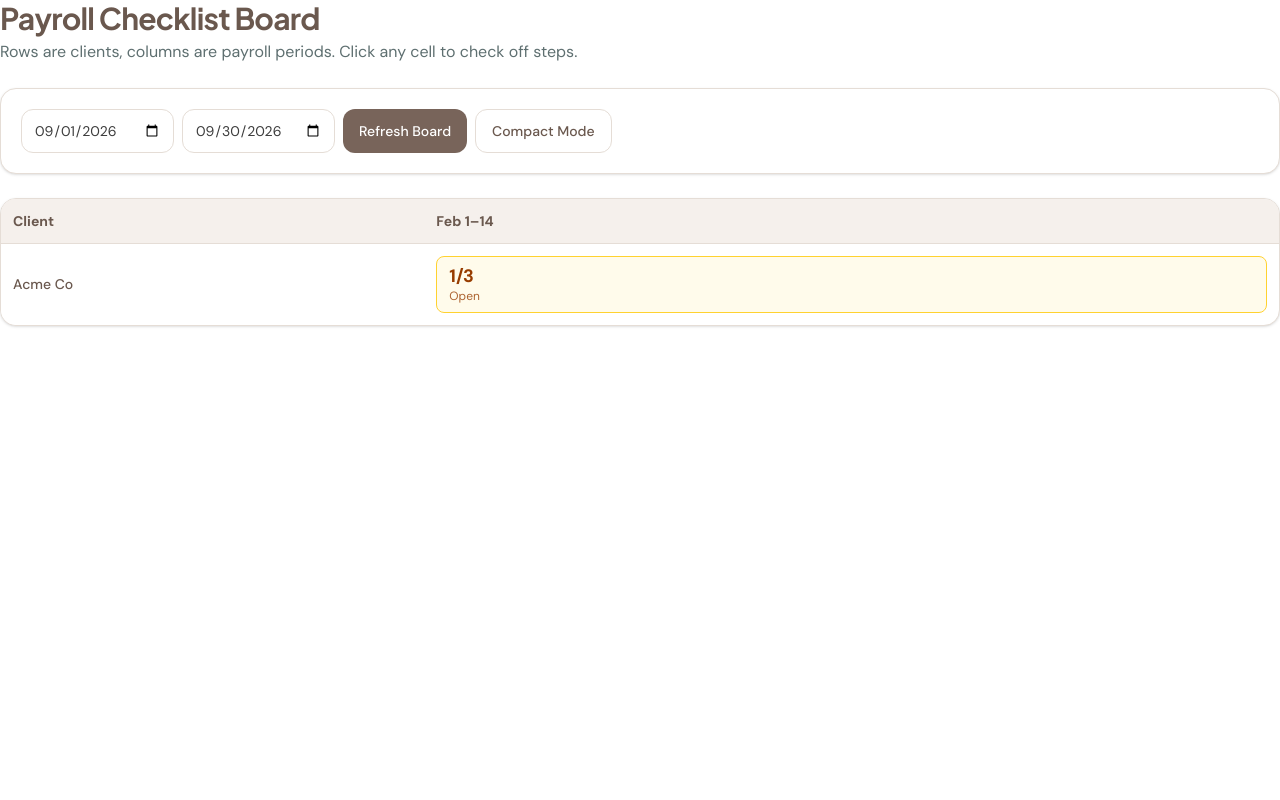
Test: OperationsPage › opens period drawer and shows checklist steps
The width and height of the screenshot is (1280, 800).
Click the text "1/3" at (462, 276), box [449, 264, 474, 288]
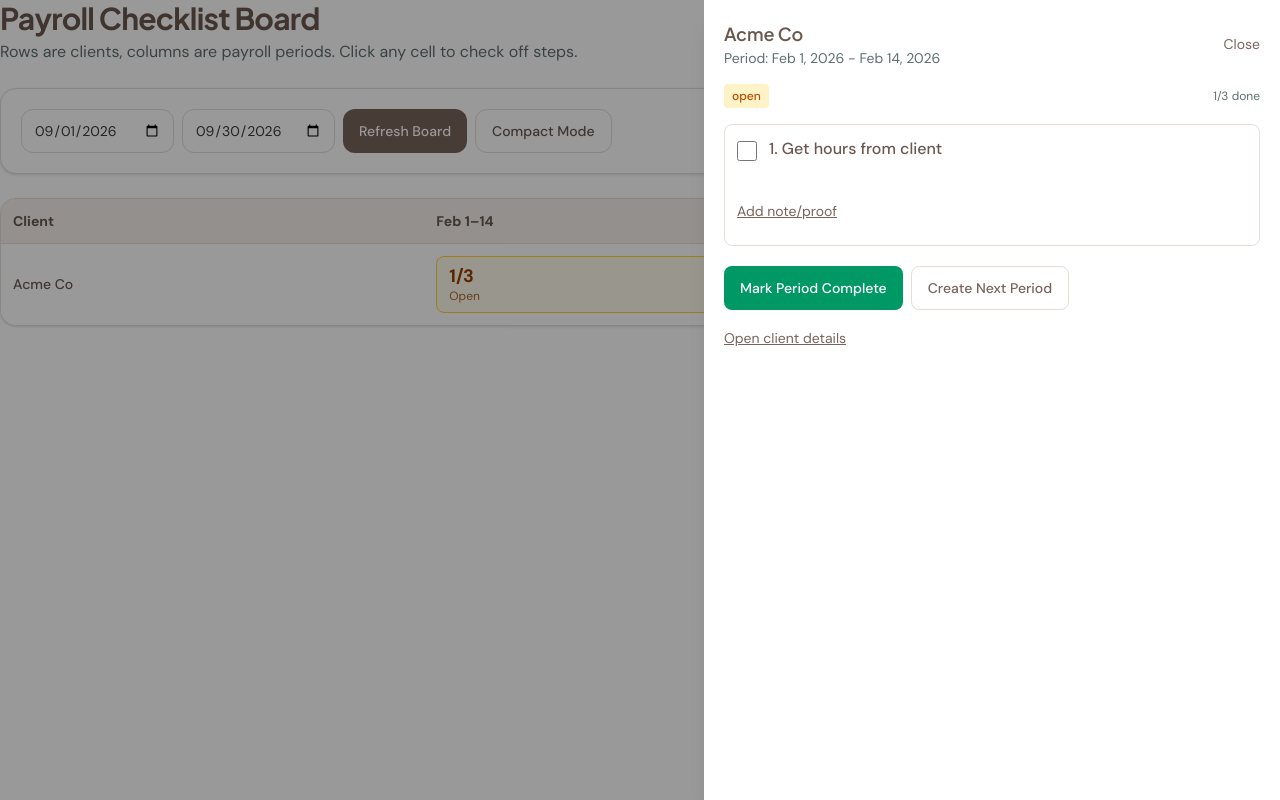
expect the text "1. Get hours from client" is shown: met, box [769, 138, 942, 159]
